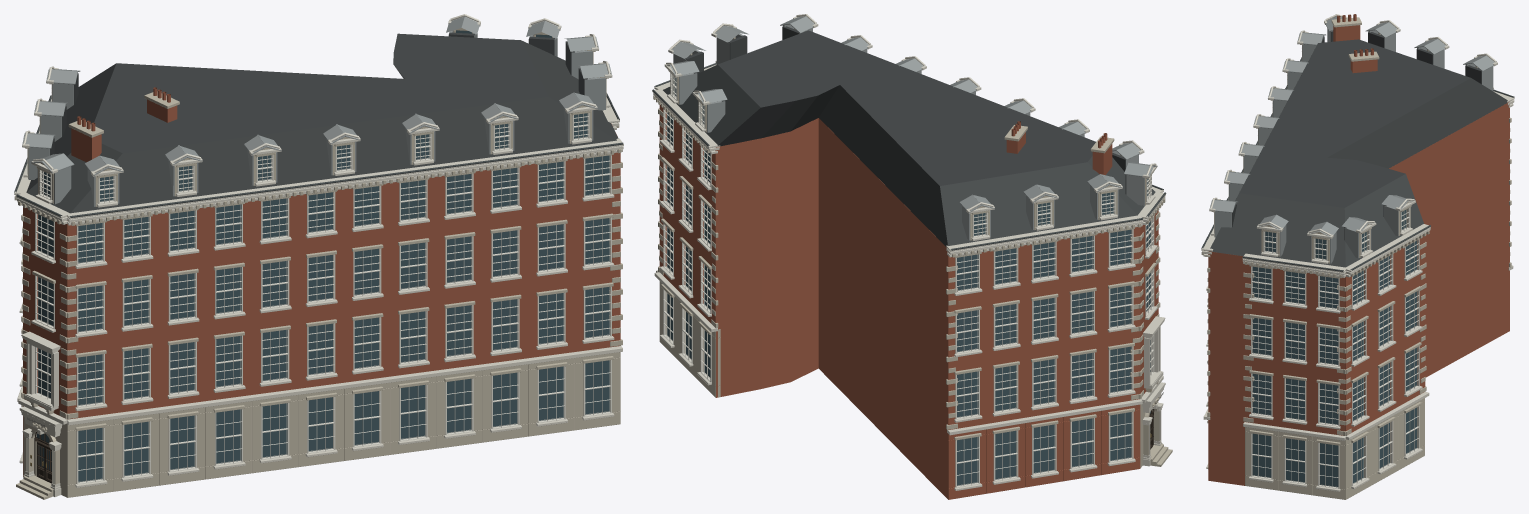
Rendered from cow-exterior-babf789a9def.glb.
The picture shows the model from 3 angles, left to right: view 1: azimuth 30°, elevation 25°; view 2: azimuth 150°, elevation 25°; view 3: azimuth 270°, elevation 25°; orthographic projection. The views are drawn at different scales.
Parts seen in each view (by area): view 1: COW.001; view 2: COW.001; view 3: COW.001.
Boxes of the visible parts, left/top/right/bottom form: COW.001: left=14, top=14, right=623, bottom=499; COW.001: left=652, top=14, right=1172, bottom=499; COW.001: left=1201, top=14, right=1514, bottom=499.
Bounding box in the file's own units: 38.37 × 22.48 × 22.3.
